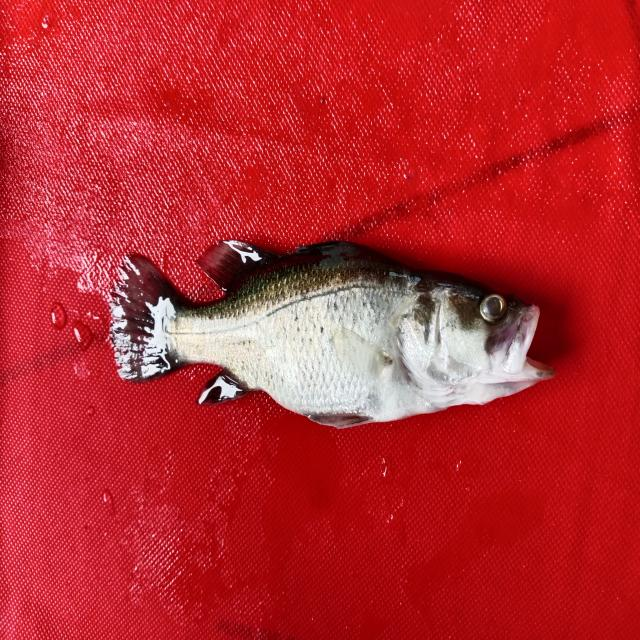ikan: (89, 204, 568, 456)
